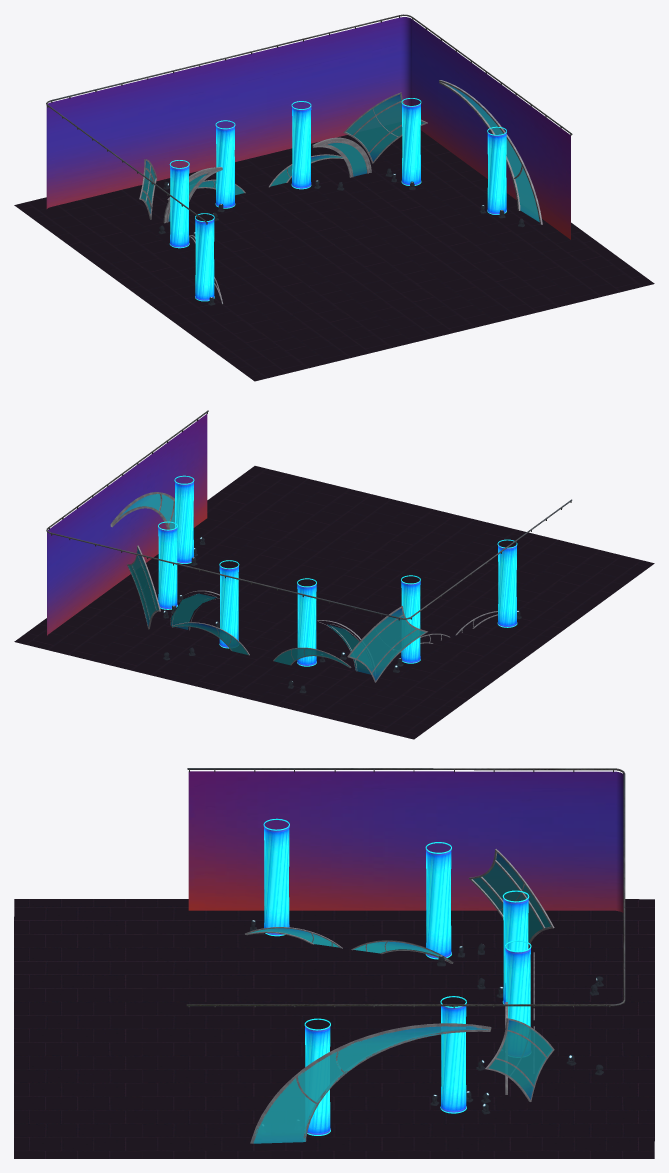
Rendered from wof_la.glb.
The picture shows the model from 3 angles, top to bottom: view 1: azimuth 30°, elevation 25°; view 2: azimuth 150°, elevation 25°; view 3: azimuth 270°, elevation 25°; orthographic projection. The views are drawn at different scales.
Visible parts, largest first — view 1: reflect_floorShape, backgroundShape, screenblade_fat_rightShape:0, glowtubeShape6, glowtubeShape4, glowtubeShape2, glowtubeShape5, glowtubeShape3, glowtubeShape1, screenblade_playersShape:0, screenblade_playersShape:1, screenblade_rightShape:1 (+2 smaller); view 2: reflect_floorShape, backgroundShape, screenblade_fat_leftShape:0, glowtubeShape3, glowtubeShape6, glowtubeShape4, glowtubeShape1, glowtubeShape2, glowtubeShape5, screenblade_fat_rightShape:0, screenblade_rightShape:0, screenblade_playersShape:0 (+5 smaller); view 3: reflect_floorShape, backgroundShape, screenblade_playersShape:0, glowtubeShape5, glowtubeShape6, glowtubeShape3, screenblade_fat_rightShape:0, screenblade_fat_leftShape:0, glowtubeShape2, screenblade_playersShape:1, glowtubeShape4, glowtubeShape1 (+3 smaller).
Part boxes in pixels (box(x1,y1,x2,y2)): reflect_floorShape: box(14, 130, 654, 381); backgroundShape: box(46, 14, 572, 239); screenblade_fat_rightShape:0: box(346, 94, 424, 161); glowtubeShape6: box(195, 213, 214, 301); glowtubeShape4: box(487, 126, 506, 214); glowtubeShape2: box(291, 101, 311, 189); glowtubeShape5: box(169, 160, 189, 248); glowtubeShape3: box(401, 98, 421, 185); glowtubeShape1: box(215, 120, 235, 208); screenblade_playersShape:0: box(446, 84, 539, 222); screenblade_playersShape:1: box(439, 80, 542, 224); screenblade_rightShape:1: box(312, 137, 371, 177); reflect_floorShape: box(14, 466, 654, 739); backgroundShape: box(46, 410, 572, 635); screenblade_fat_leftShape:0: box(350, 608, 425, 680); glowtubeShape3: box(158, 521, 177, 609); glowtubeShape6: box(497, 539, 517, 627); glowtubeShape4: box(174, 475, 194, 563); glowtubeShape1: box(297, 578, 316, 666); glowtubeShape2: box(219, 560, 239, 648); glowtubeShape5: box(401, 575, 420, 663); screenblade_fat_rightShape:0: box(128, 548, 158, 626); screenblade_rightShape:0: box(171, 593, 216, 629); screenblade_playersShape:0: box(120, 494, 174, 529); reflect_floorShape: box(14, 899, 654, 1158); backgroundShape: box(186, 768, 625, 1008); screenblade_playersShape:0: box(253, 1026, 488, 1143); glowtubeShape5: box(425, 842, 451, 959); glowtubeShape6: box(263, 818, 289, 936); glowtubeShape3: box(440, 996, 466, 1113); screenblade_fat_rightShape:0: box(489, 1020, 552, 1099); screenblade_fat_leftShape:0: box(473, 853, 550, 941); glowtubeShape2: box(505, 940, 531, 1026); screenblade_playersShape:1: box(250, 1023, 491, 1143); glowtubeShape4: box(304, 1018, 330, 1135); glowtubeShape1: box(502, 890, 529, 1004).
Bounding box in the file's own units: 2881 × 891 × 3003.
Materials: 9 (9 with a texture image).
